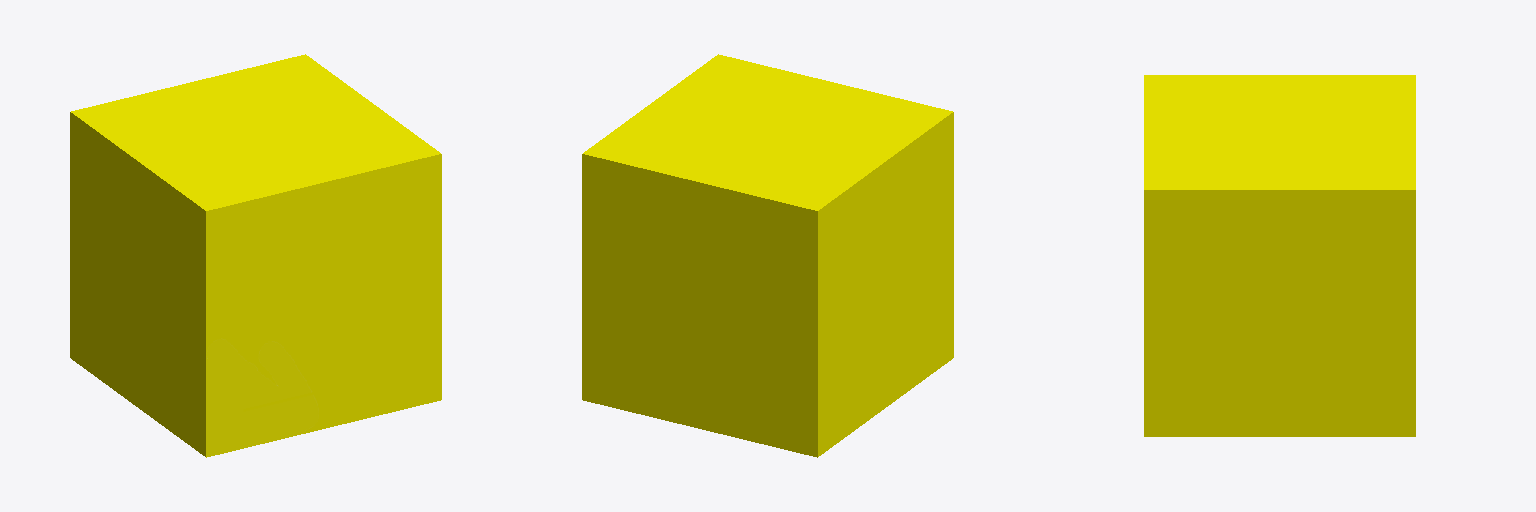
3 views of the same model, side by side, from view 1: azimuth 30°, elevation 25°; view 2: azimuth 150°, elevation 25°; view 3: azimuth 270°, elevation 25° (orthographic).
Visible parts, largest first — view 1: Cube.002; view 2: Cube.002; view 3: Cube.002.
Part boxes in pixels (left/top/right/bottom): Cube.002: left=70, top=54, right=441, bottom=457; Cube.002: left=582, top=54, right=953, bottom=457; Cube.002: left=1144, top=75, right=1415, bottom=436.
Bounding box in the file's own units: 1 × 1 × 1.
Materials: 1 (1 with a texture image).